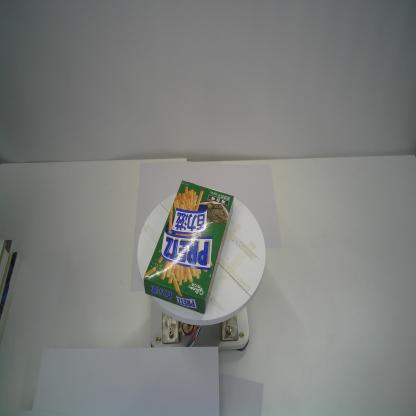Dessert: (143, 180, 234, 314)
